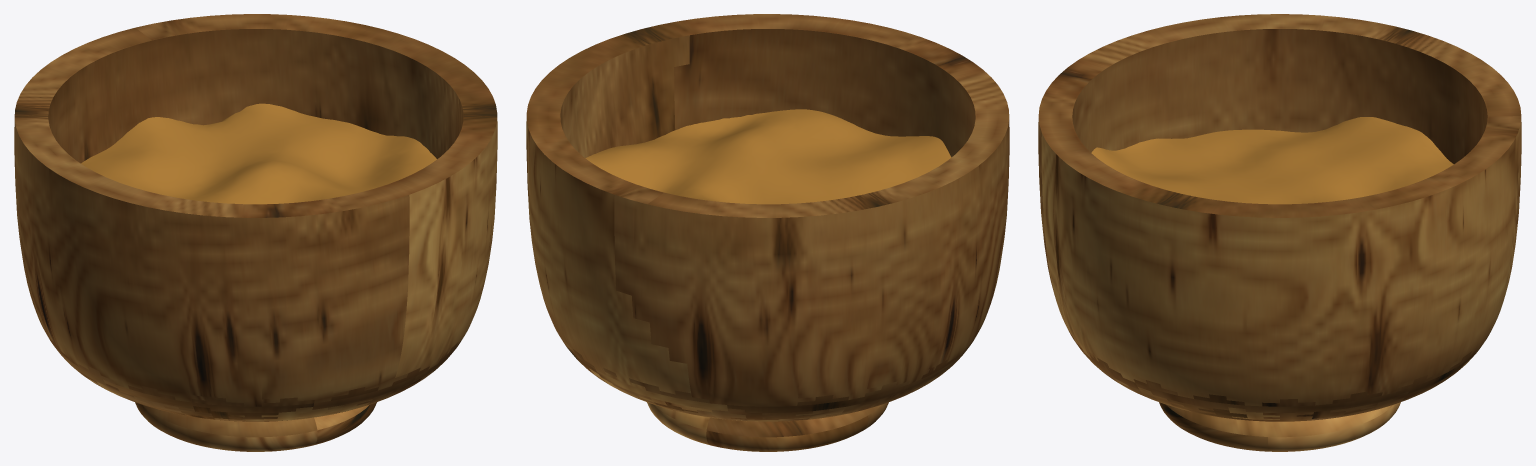
File: Roots_result.fbx
The picture shows the model from 3 angles, left to right: view 1: azimuth 30°, elevation 25°; view 2: azimuth 150°, elevation 25°; view 3: azimuth 270°, elevation 25°; orthographic projection.
Parts seen in each view (by area): view 1: tar, Plane; view 2: tar, Plane; view 3: tar, Plane.
Boxes of the visible parts, x1=… form: tar: x1=14, y1=14, x2=497, y2=451; Plane: x1=81, y1=103, x2=436, y2=204; tar: x1=526, y1=14, x2=1009, y2=451; Plane: x1=585, y1=109, x2=951, y2=204; tar: x1=1038, y1=14, x2=1521, y2=451; Plane: x1=1091, y1=117, x2=1453, y2=204.
Size of the model in its own units: 1434 by 950 by 1434.
Materials: 2 (1 with a texture image).
